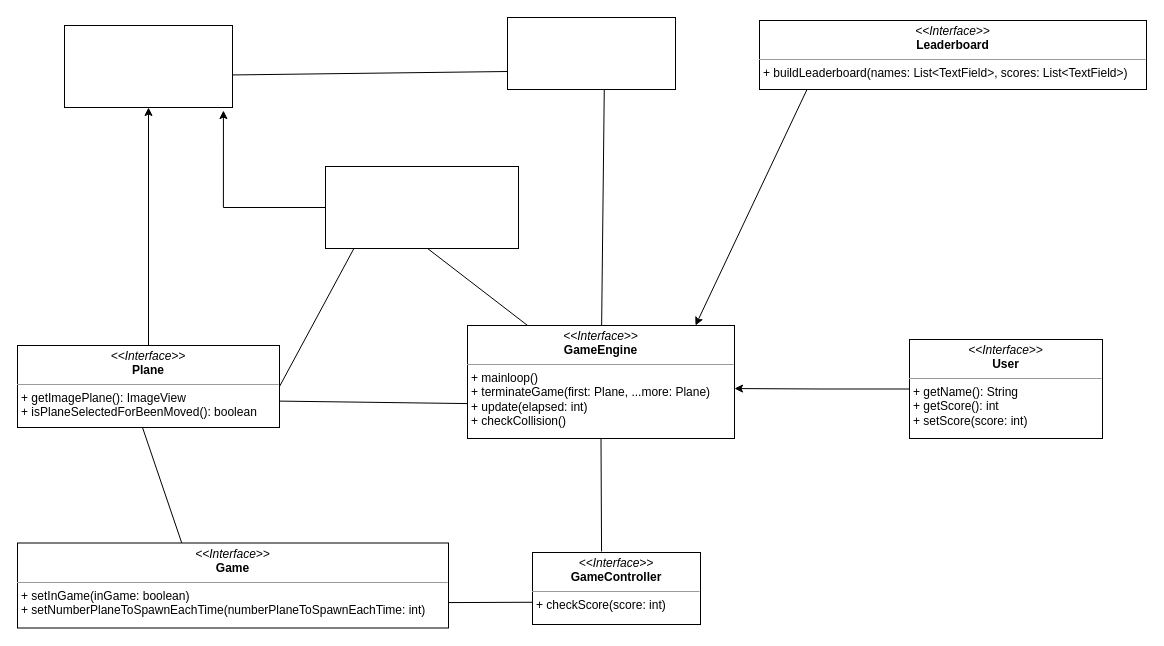
The diagram is 1164 pixels wide and 646 high, and some of its shapes have lost their labels. The shapes that lost their labels are listed below. From the top down, each one's box as (x1, y1, x2, y2) in pixels, then its label:
(64, 24, 232, 108): <<Interface>> Seaside + terminateGame() + clearMap()
(506, 16, 676, 90): <<Interface>> ThreadEngine + start()
(324, 166, 518, 248): <<Interface>> Airstrip + setScore(user: User, score: int) + getBox(): Rectangle
